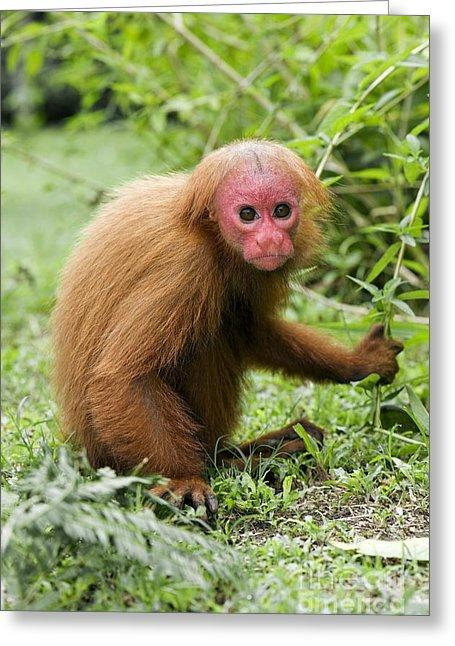monkey: (53, 141, 403, 522)
